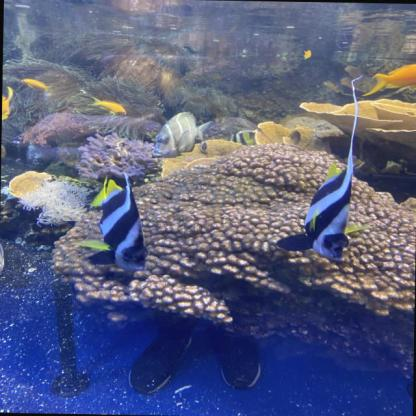fish: (277, 162, 365, 262), (73, 174, 149, 271), (154, 110, 210, 155), (362, 61, 416, 97), (87, 96, 125, 115), (232, 129, 256, 145), (1, 86, 12, 119), (20, 79, 49, 90), (302, 48, 310, 58)
